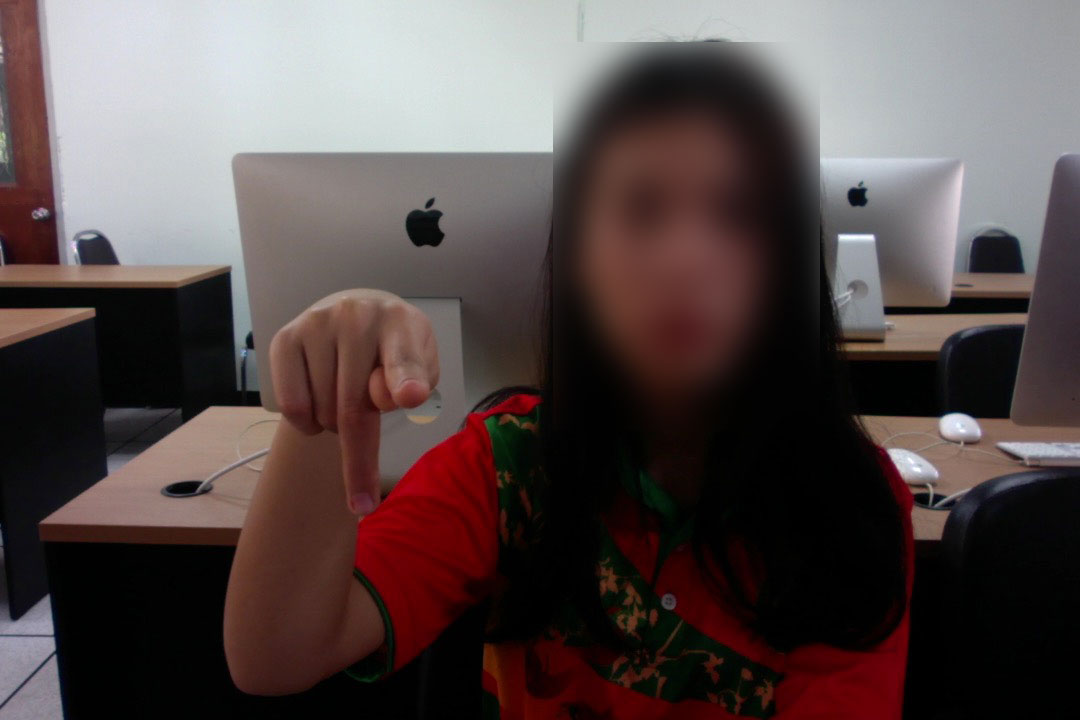por: (267, 280, 449, 520)
